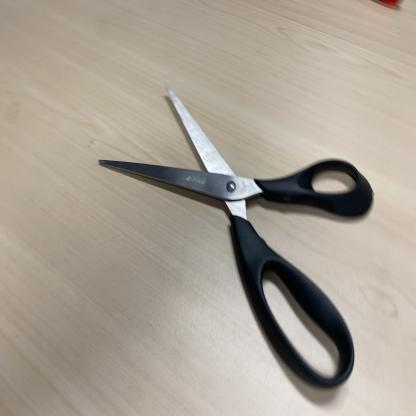scissors: (98, 85, 375, 394)
